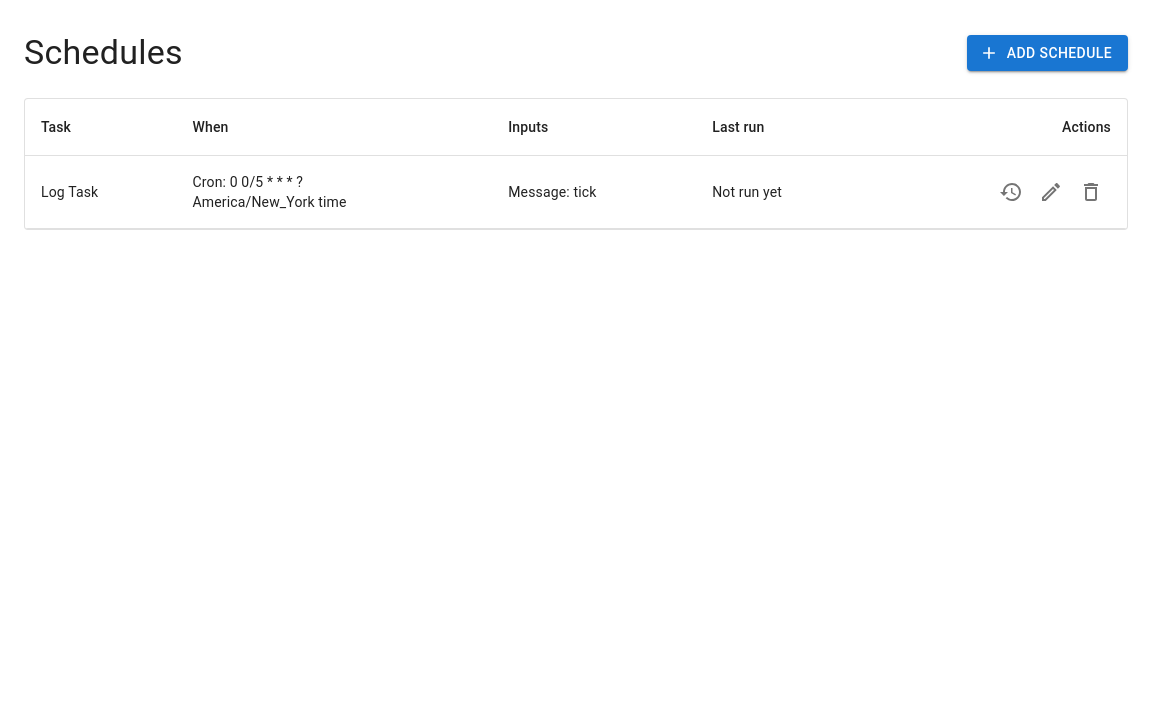
Test: run history dialog › names the task that ran, even if the schedule now uses another task
What coordinates should you click on to do the following:
click the button named "Run history"
I would click on:
 (1011, 192)
Its box is [991,172,1031,212].
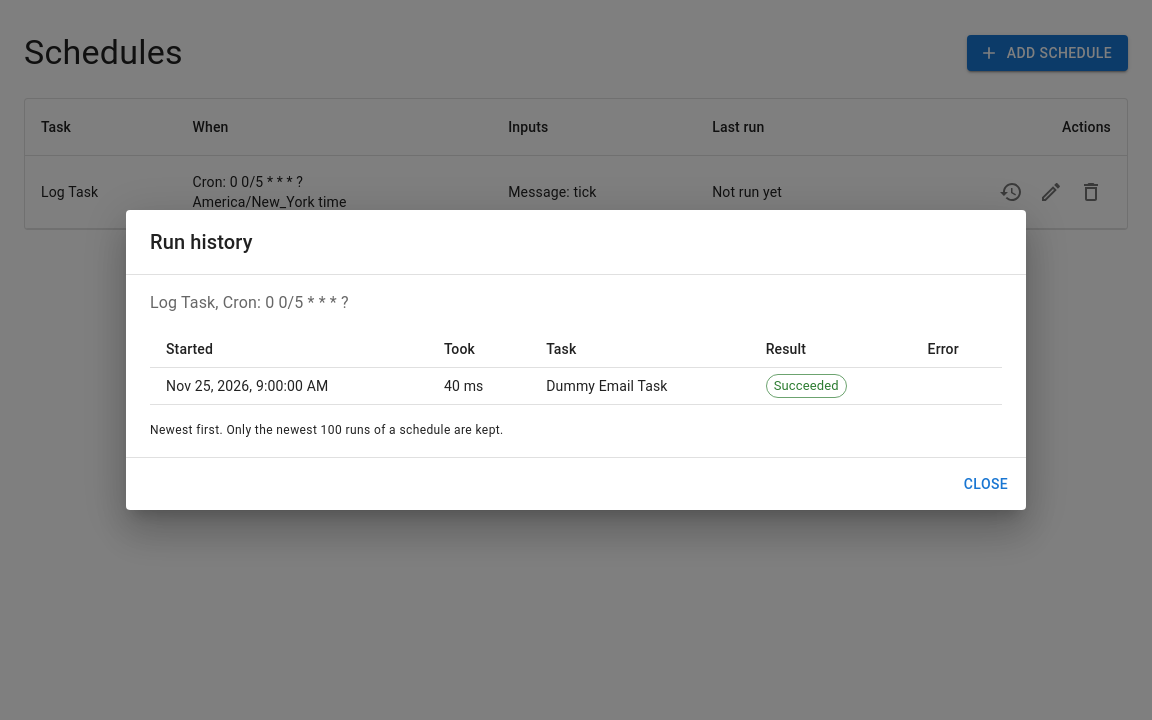
Result: the text "Dummy Email Task" is shown at [530,367,750,404]
